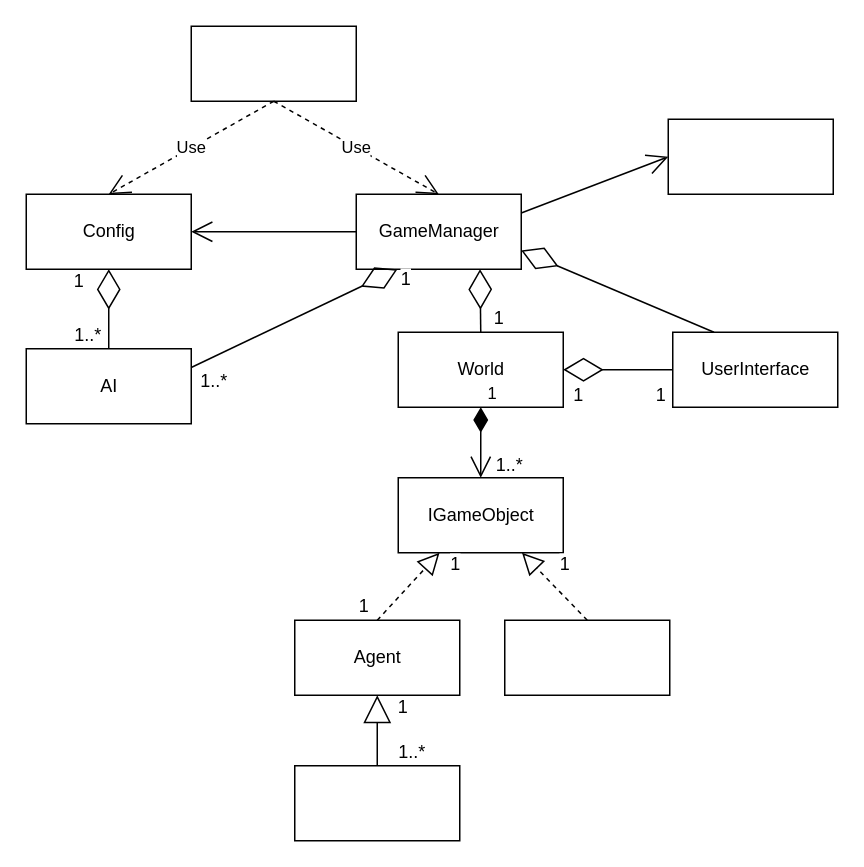
This 864x867 diagram has some shape labels left out. The centre of each missing label's shape, as x and y in pixels:
AgentType: the point at 376,802
Empty: the point at 586,657
Menu: the point at 750,156
Program: the point at 273,63
